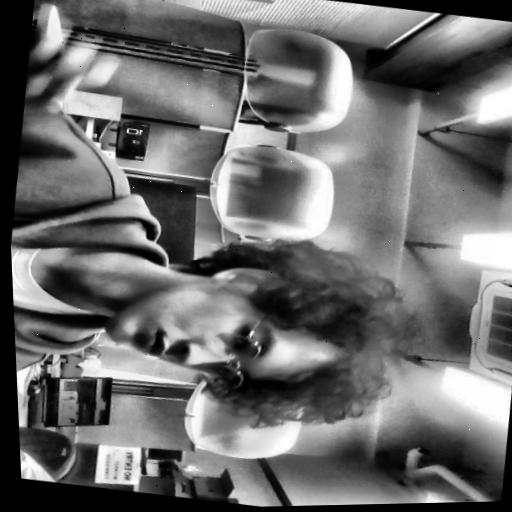Daifuku: (100, 227, 417, 443)
